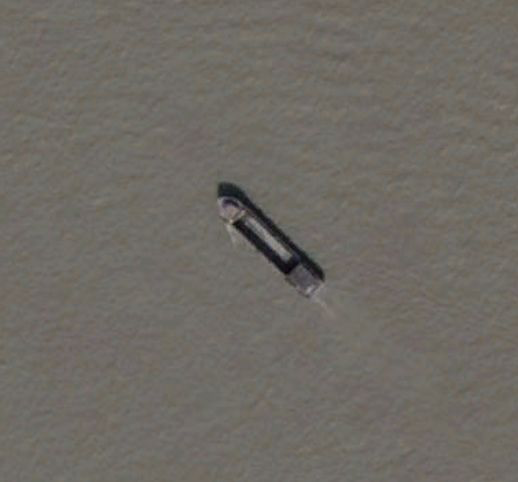boat: (216, 194, 328, 301)
